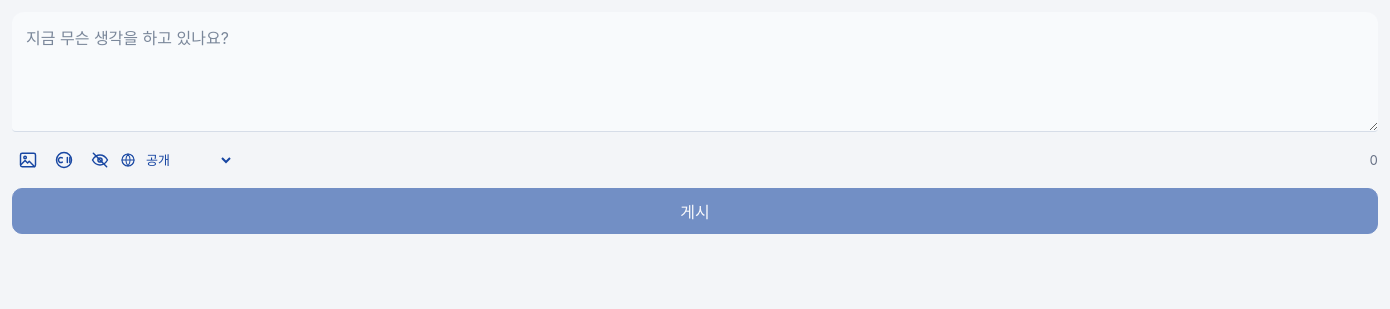
Scenario: localizes the unknown post outcome warning in ko
Type "Outcome unknown" into the text box named "게시물 내용" at [695, 72], box [12,12,1378,132]
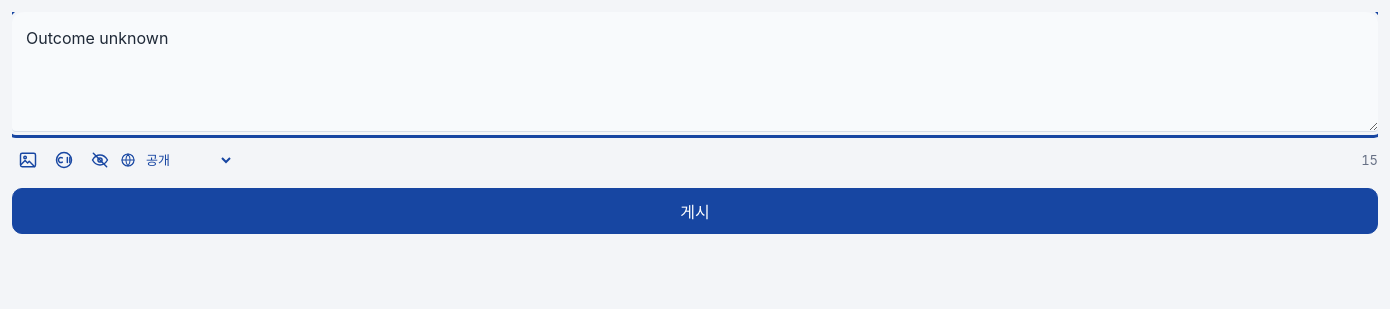
Click the button "게시" at [695, 211], box [12,188,1378,234]
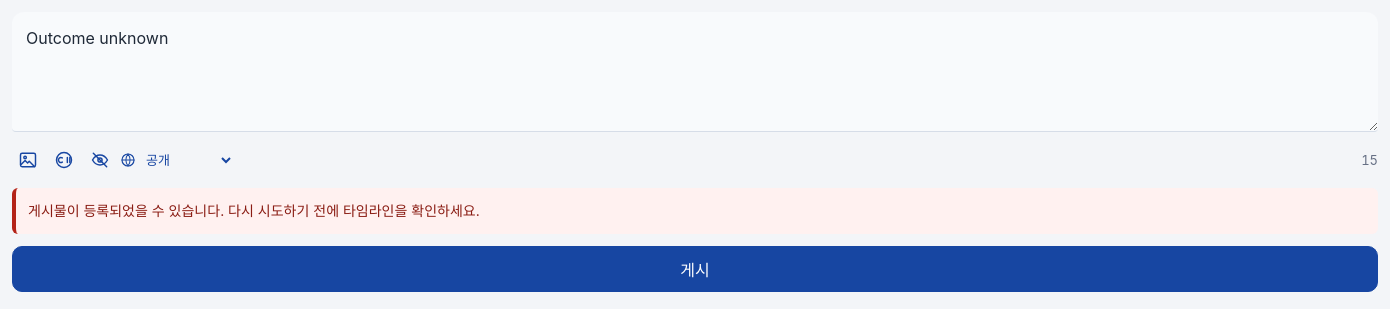
expect the message reads "게시물이 등록되었을 수 있습니다. 다시 시도하기 전에 타임라인을 확인하세요.": met, box [28,202,480,219]
